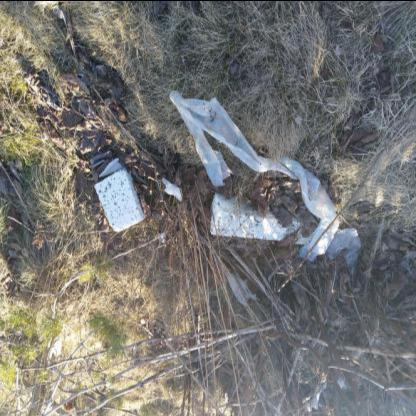Other plastic: (100, 157, 126, 177)
Plastic bag - wrapper: (170, 90, 340, 261), (326, 227, 360, 273), (227, 270, 260, 306), (161, 176, 182, 200), (310, 387, 322, 409), (337, 375, 345, 387)
Styrofoam piece: (210, 192, 314, 244), (95, 168, 147, 231)
